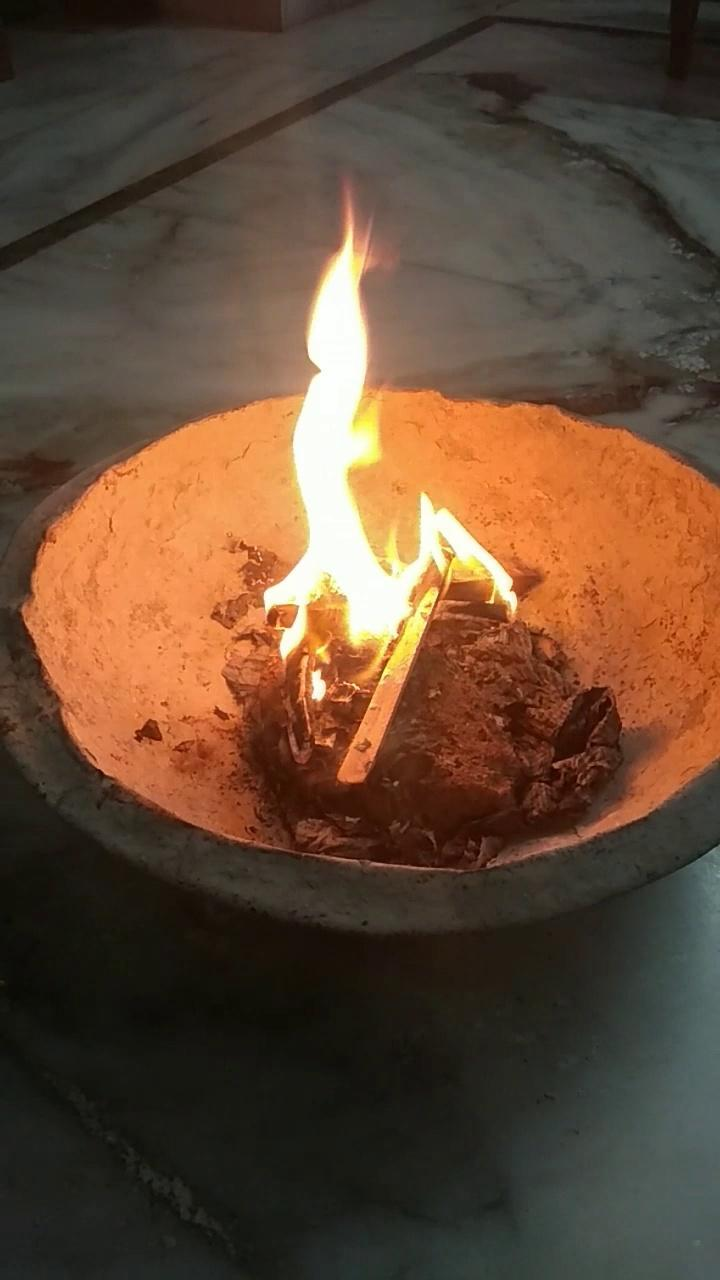fire: (265, 207, 500, 622)
